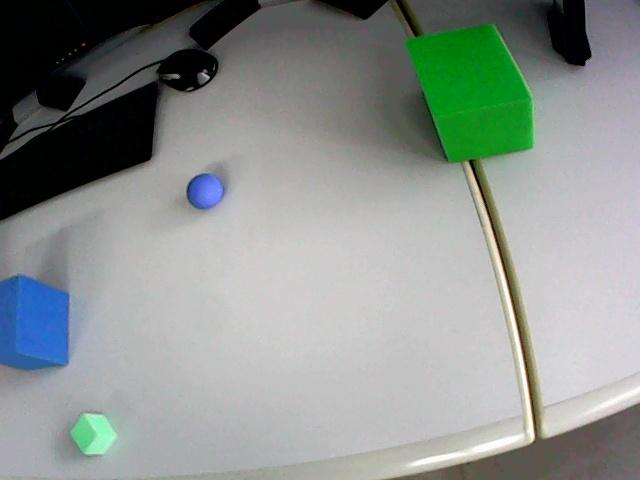blue_block: (0, 275, 68, 369)
